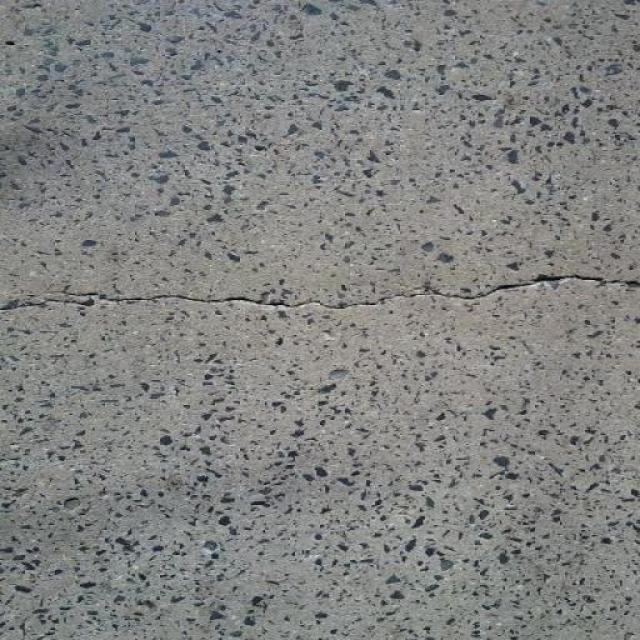Crack: (0, 263, 640, 317)
